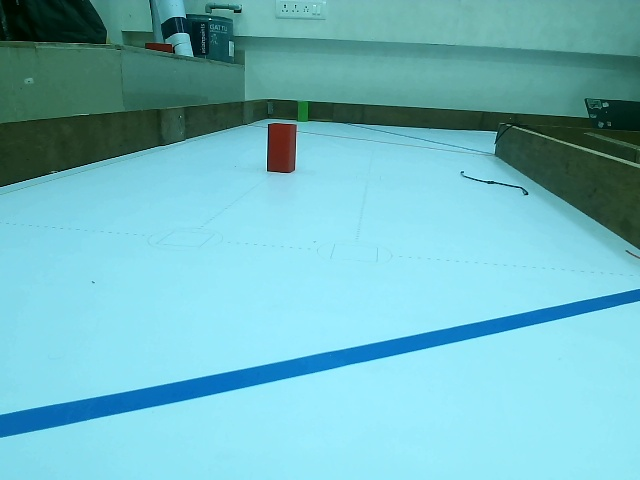red: (270, 124, 295, 173)
